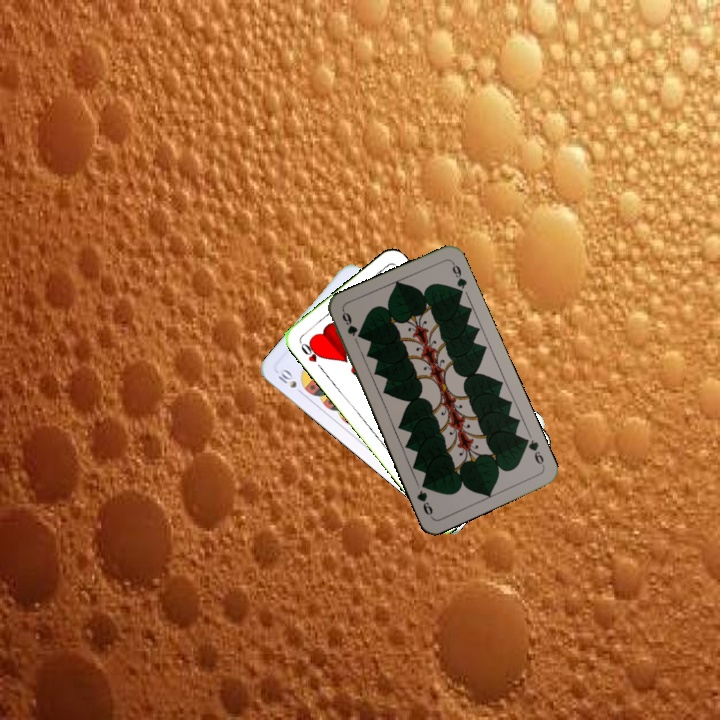G9: (519, 434, 547, 470), (338, 307, 360, 339)
HO: (296, 337, 326, 373)
S10: (273, 364, 307, 398)
